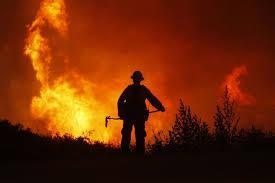fire: (20, 0, 111, 141)
